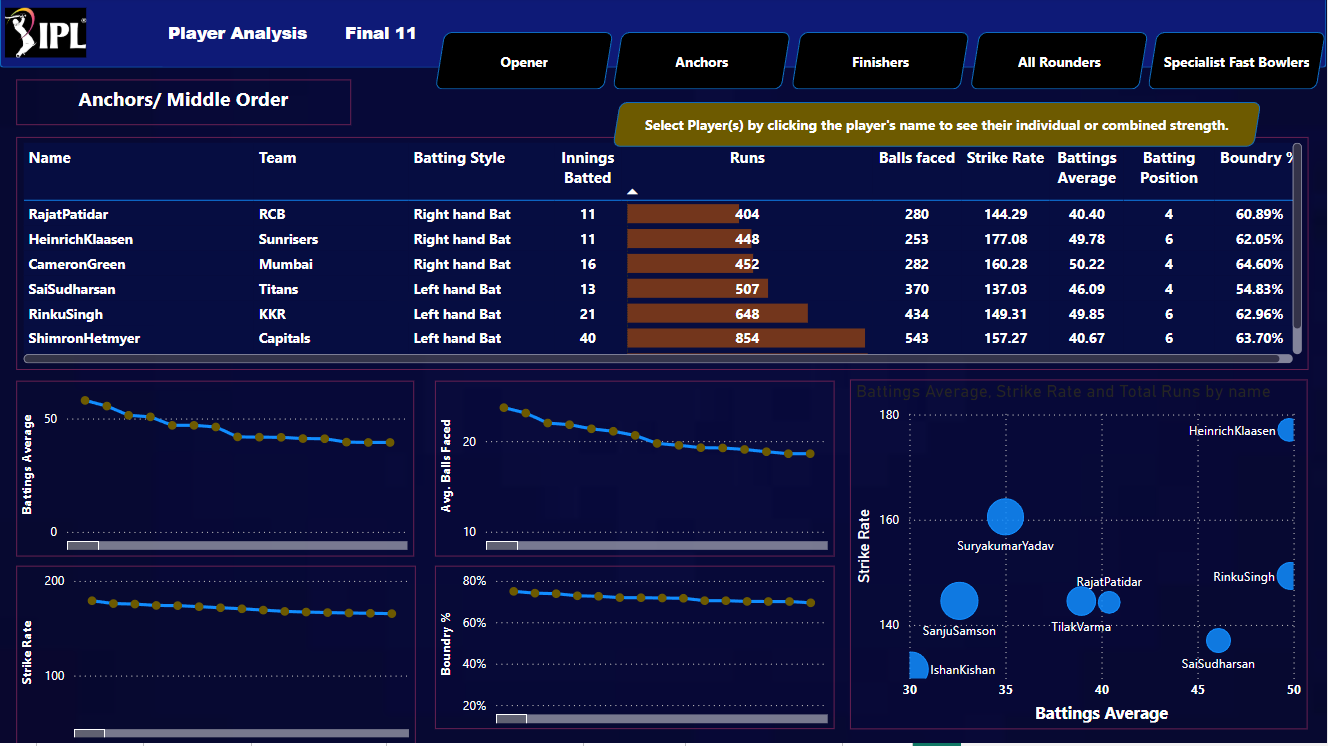

The dashboard page shown, as its layout file describes it:
{"tool":"powerbi","page":{"name":"Anchors","canvas":[1280,720],"ordinal":1},"visuals":[{"type":"shape","box":[0,0,1280,68.3],"z":0},{"type":"actionButton","box":[156.4,0,145.1,68.3],"z":1000},{"type":"actionButton","box":[301.5,0,132.3,68.3],"z":2000},{"type":"shape","box":[591.6,34.1,172.1,55.5],"z":3000},{"type":"shape","box":[763.7,34.1,172.1,55.5],"z":4000},{"type":"shape","box":[935.8,34.1,172.1,55.5],"z":5000},{"type":"shape","box":[1107.9,34.1,172.1,55.5],"z":6000},{"type":"shape","box":[419.6,34.1,172.1,55.5],"z":7000},{"type":"tableEx","fields":{"Values":["dim_players.name","dim_players.team","dim_players.battingStyle","__Measures.Total Innigs Batted","__Measures.Total Runs","__Measures.Total Balls faced","__Measures.Strike Rate","__Measures.Battings Average","__Measures.Batting Position","__Measures.Boundry %"]},"box":[15.6,135.1,1247.3,224.7],"z":8000},{"type":"textbox","box":[15.6,79.6,322.8,44.1],"z":9000},{"type":"lineChart","fields":{"Category":["dim_match_summary.matchDate"],"Y":["__Measures.Battings Average"]},"box":[15.6,369.8,384,169.2],"z":10000},{"type":"lineChart","fields":{"Category":["dim_match_summary.matchDate"],"Y":["__Measures.Avg. Balls Faced"]},"box":[419.6,369.8,385.4,169.2],"z":11000},{"type":"lineChart","fields":{"Category":["dim_match_summary.matchDate"],"Y":["__Measures.Strike Rate"]},"box":[15.6,549,385.4,172.1],"z":12000},{"type":"lineChart","fields":{"Category":["dim_match_summary.matchDate"],"Y":["__Measures.Boundry %"]},"box":[419.6,549,385.4,157.9],"z":13000},{"type":"scatterChart","fields":{"Size":["__Measures.Total Runs"],"X":["__Measures.Battings Average"],"Y":["__Measures.Strike Rate"],"Category":["dim_players.name"]},"box":[820.9,369.3,441.5,337.6],"z":14000},{"type":"shape","box":[591.5,101,626.2,43.3],"z":15000},{"type":"image","box":[0,0,88.1,68.8],"z":16000}]}

Visuals, with their boxes in screenshot pixels (x1, y1, x2, y2), scaled from the page's 1280x720 canvas onto the 1328x746 screenshot:
shape: [0,0,1327,71]
actionButton: [162,0,313,71]
actionButton: [313,0,450,71]
shape: [614,35,792,93]
shape: [792,35,971,93]
shape: [971,35,1149,93]
shape: [1149,35,1327,93]
shape: [435,35,614,93]
tableEx - dim_players.name x dim_players.team: [16,140,1310,373]
textbox: [16,82,351,128]
lineChart - dim_match_summary.matchDate x __Measures.Battings Average: [16,383,415,558]
lineChart - dim_match_summary.matchDate x __Measures.Avg. Balls Faced: [435,383,835,558]
lineChart - dim_match_summary.matchDate x __Measures.Strike Rate: [16,569,416,745]
lineChart - dim_match_summary.matchDate x __Measures.Boundry %: [435,569,835,732]
scatterChart - __Measures.Total Runs x __Measures.Battings Average: [852,383,1310,732]
shape: [614,105,1263,150]
image: [0,0,91,71]
